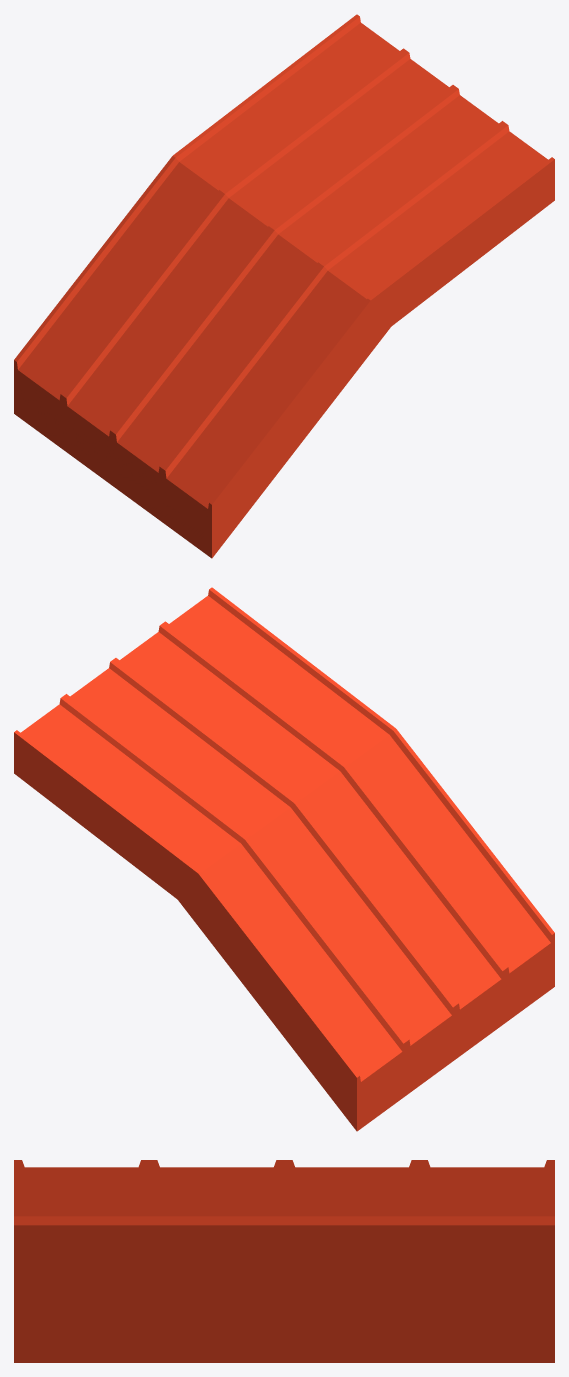
The model's file is roof-metal-regular-moderate-2x2m.fbx.
3 renders of one model, top to bottom at view 1: azimuth 30°, elevation 25°; view 2: azimuth 150°, elevation 25°; view 3: azimuth 270°, elevation 25°, orthographic. The views are drawn at different scales.
Visible parts, largest first — view 1: roof-metal-regular-moderate-2x2m; view 2: roof-metal-regular-moderate-2x2m; view 3: roof-metal-regular-moderate-2x2m.
Part boxes in pixels (x1,y1,x2,y2): roof-metal-regular-moderate-2x2m: (14, 14, 554, 558); roof-metal-regular-moderate-2x2m: (14, 587, 554, 1131); roof-metal-regular-moderate-2x2m: (14, 1160, 554, 1362).
Bounding box in the file's own units: 2 × 1.76 × 2.
